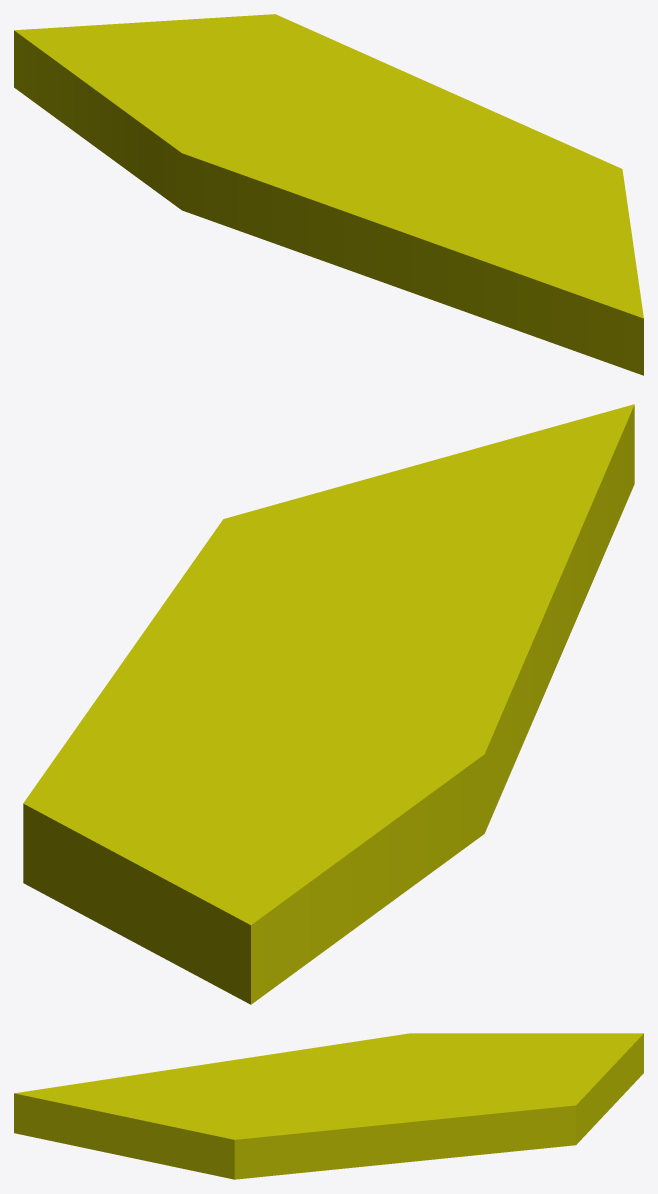
Rendered from x_proval_00_192_1_rmstrd.fbx.
The picture shows the model from 3 angles, top to bottom: view 1: azimuth 30°, elevation 25°; view 2: azimuth 150°, elevation 25°; view 3: azimuth 270°, elevation 25°; orthographic projection. The views are drawn at different scales.
Visible parts, largest first — view 1: x_proval_00_192_1_rmstrd1; view 2: x_proval_00_192_1_rmstrd1; view 3: x_proval_00_192_1_rmstrd1.
Part boxes in pixels (x1,y1,x2,y2): x_proval_00_192_1_rmstrd1: (14, 14, 643, 375); x_proval_00_192_1_rmstrd1: (23, 404, 634, 1004); x_proval_00_192_1_rmstrd1: (14, 1033, 643, 1179).
Size of the model in its own units: 1.15 by 0.2 by 2.87.
